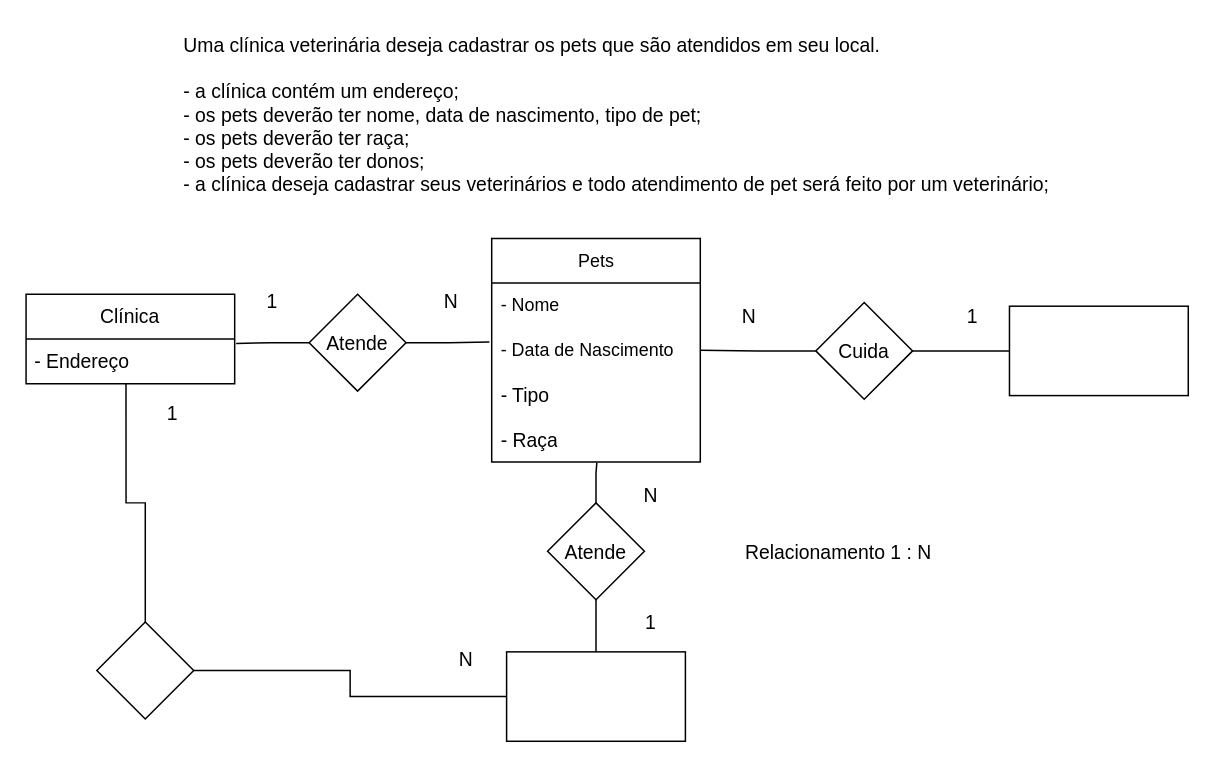
Some shapes in this 1214 by 767 pixel diagram are drawn without their labels. Here are the shapes that lost their labels. From the top down, the centre of each, then its label:
the point at 1098,350: Dono
the point at 144,670: Trabalha
the point at 595,695: Veterinário
